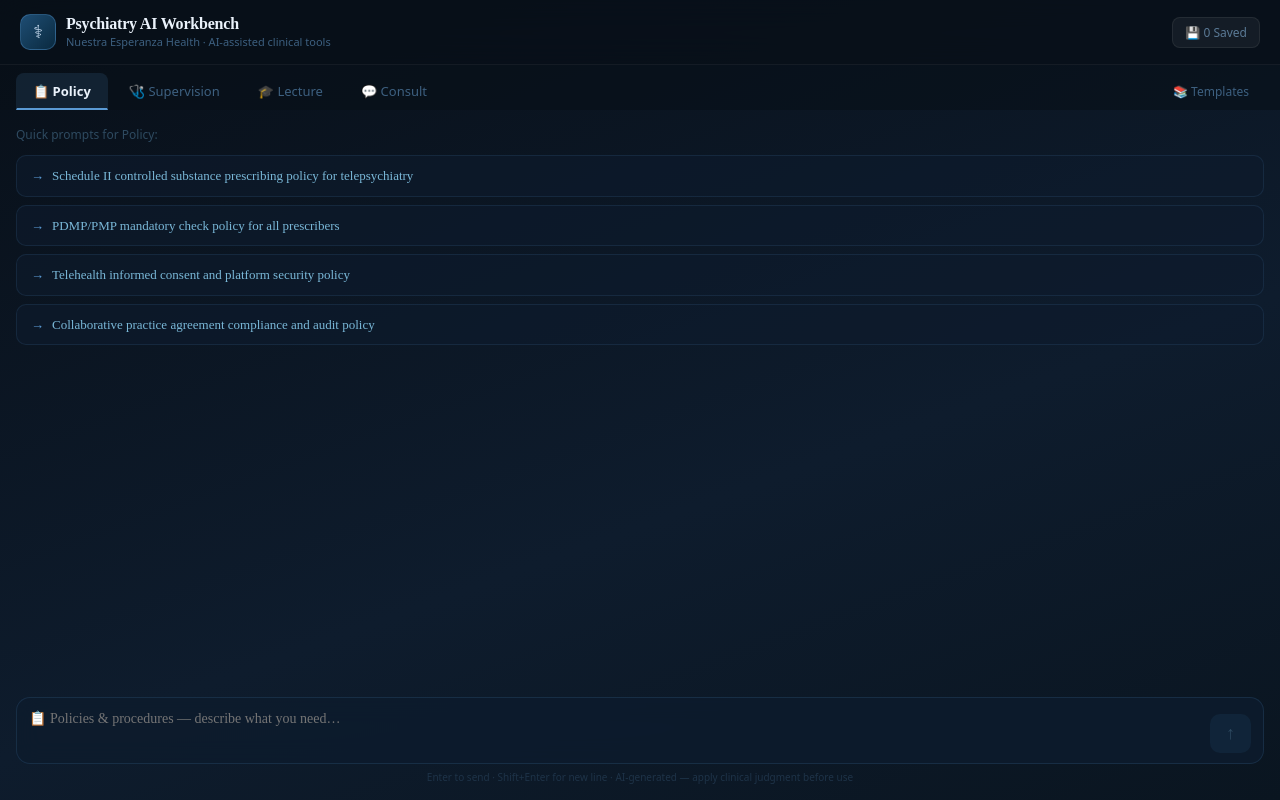
Test: PsychiatryWorkbench › sends a message and renders assistant reply
Type "Hello backend" into the text box with placeholder "📋 Policies & procedures — describe what you need…" at (616, 731), box [29,708,1202,753]
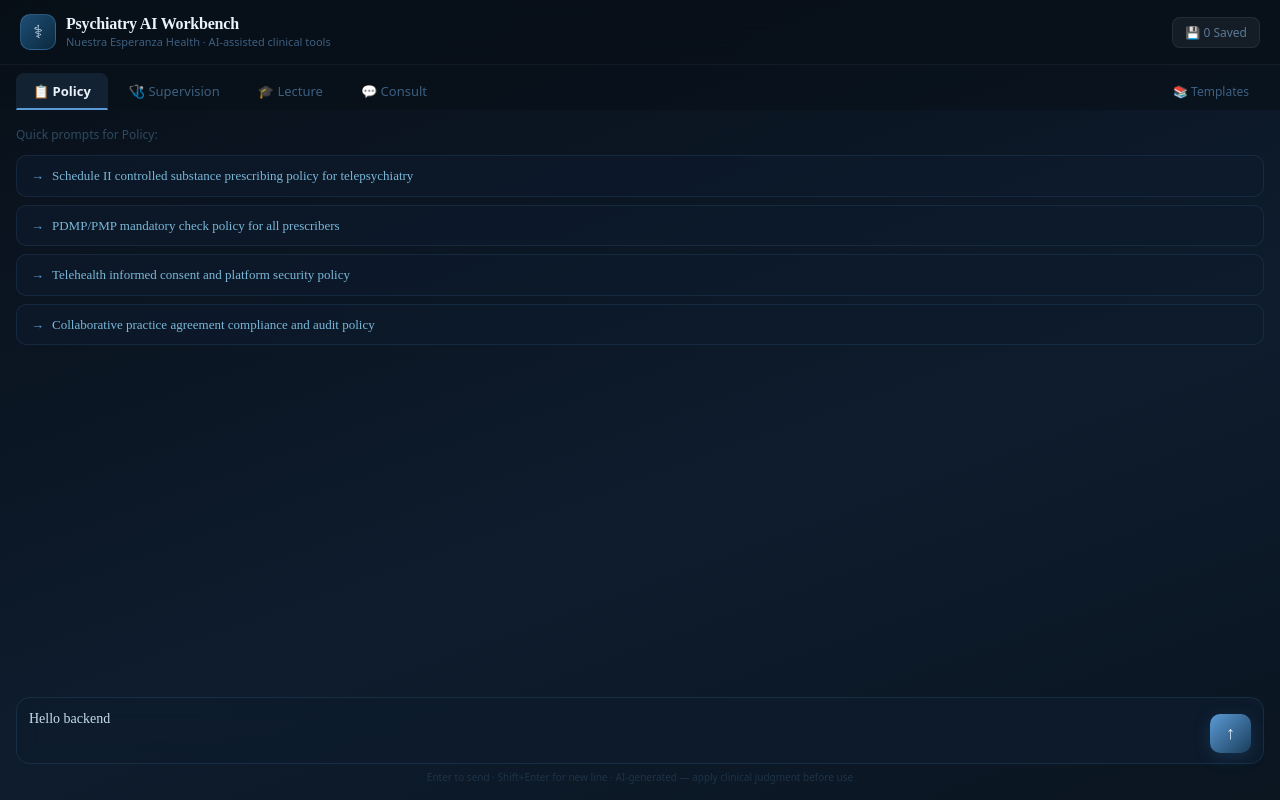
Click the button "↑" at (1230, 734), box [1210,714,1251,753]
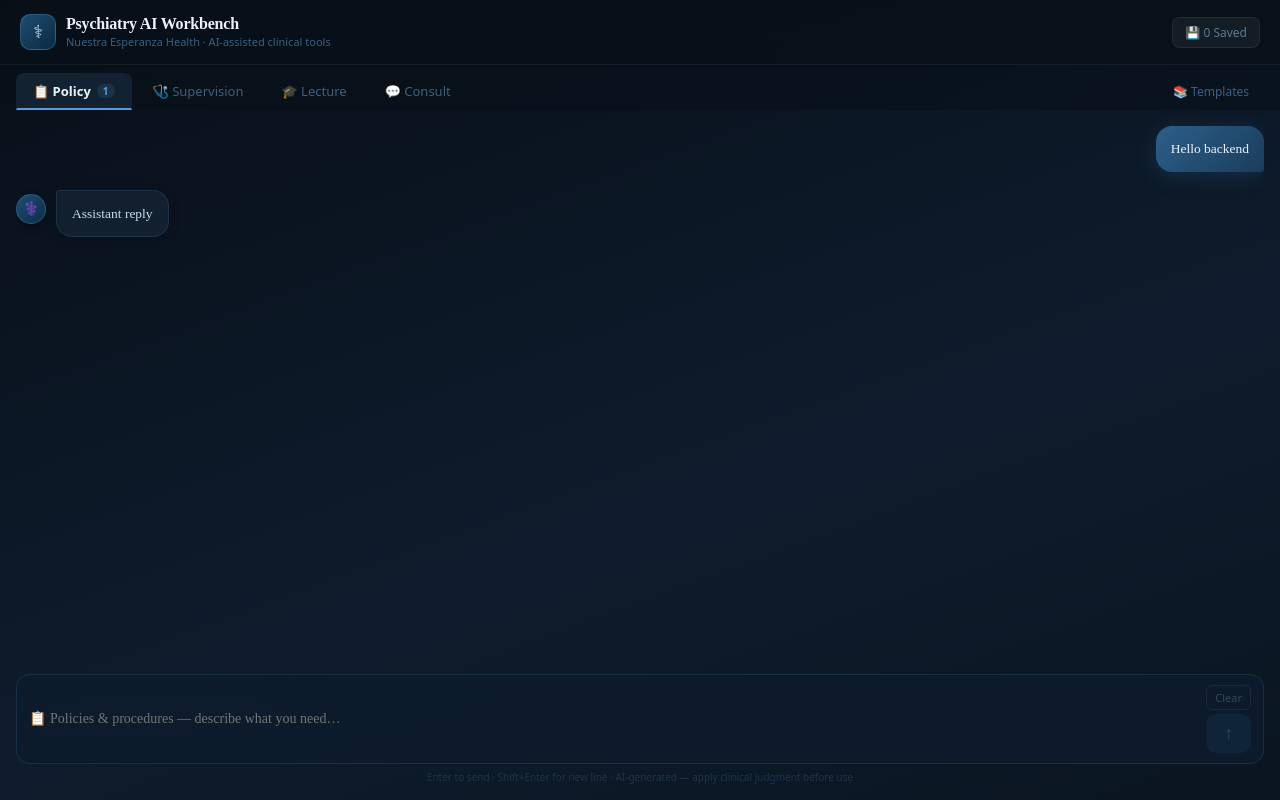
Expected: the text "Hello backend" is shown, [1156,126,1264,172]
Expected: the text "Assistant reply" is shown, [56,190,169,237]
